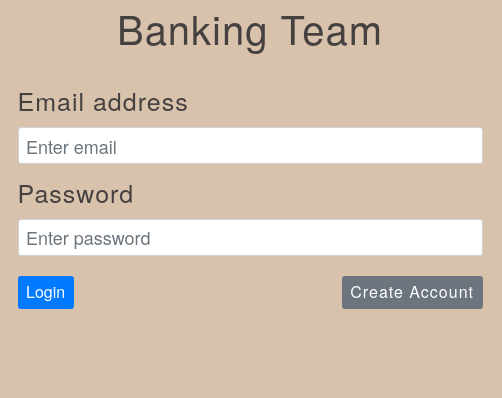
Scenario: Should positive and negative messages for login › (TP_0002) Should test to show that password is required
Step 1. Type "test@nonexisted.com" into the field named "email" → (251, 146), box left=18, top=127, right=483, bottom=164
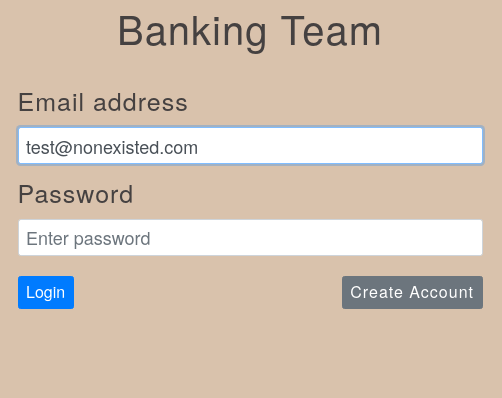
Step 2. Click the button "Login" → (46, 293), box left=18, top=276, right=74, bottom=310
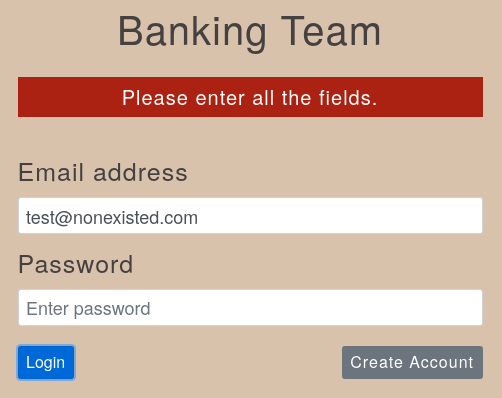
Expected: the text with class "errorMsg" reads "Please enter all the fields.", left=122, top=82, right=379, bottom=111
